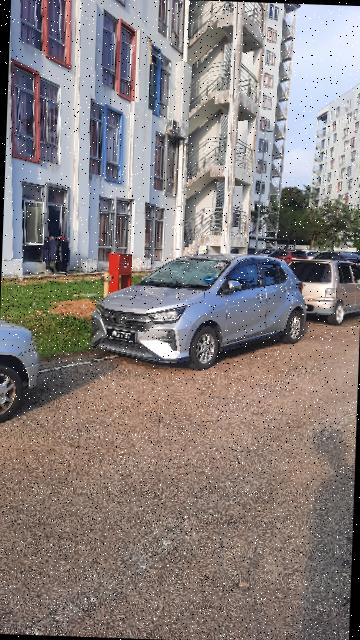License_Plate: (105, 328, 144, 347)
car: (88, 246, 312, 375), (286, 253, 360, 321)
